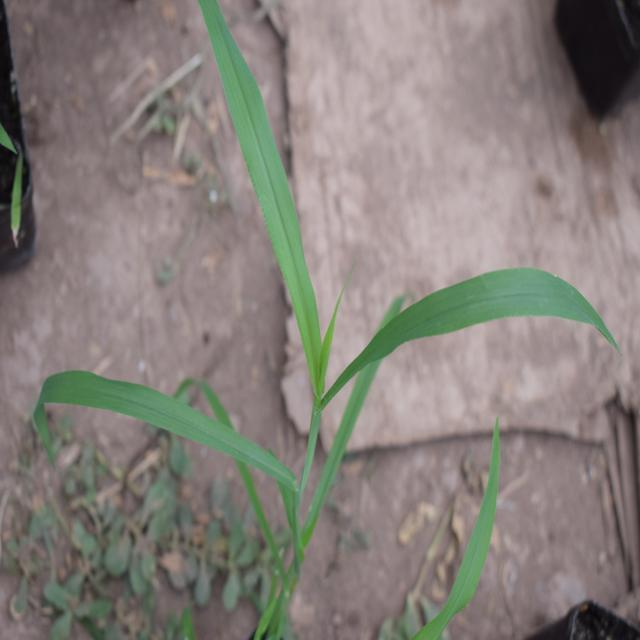crabgrass: (91, 27, 585, 516)
